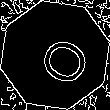O_NW: (22, 23, 88, 87)
